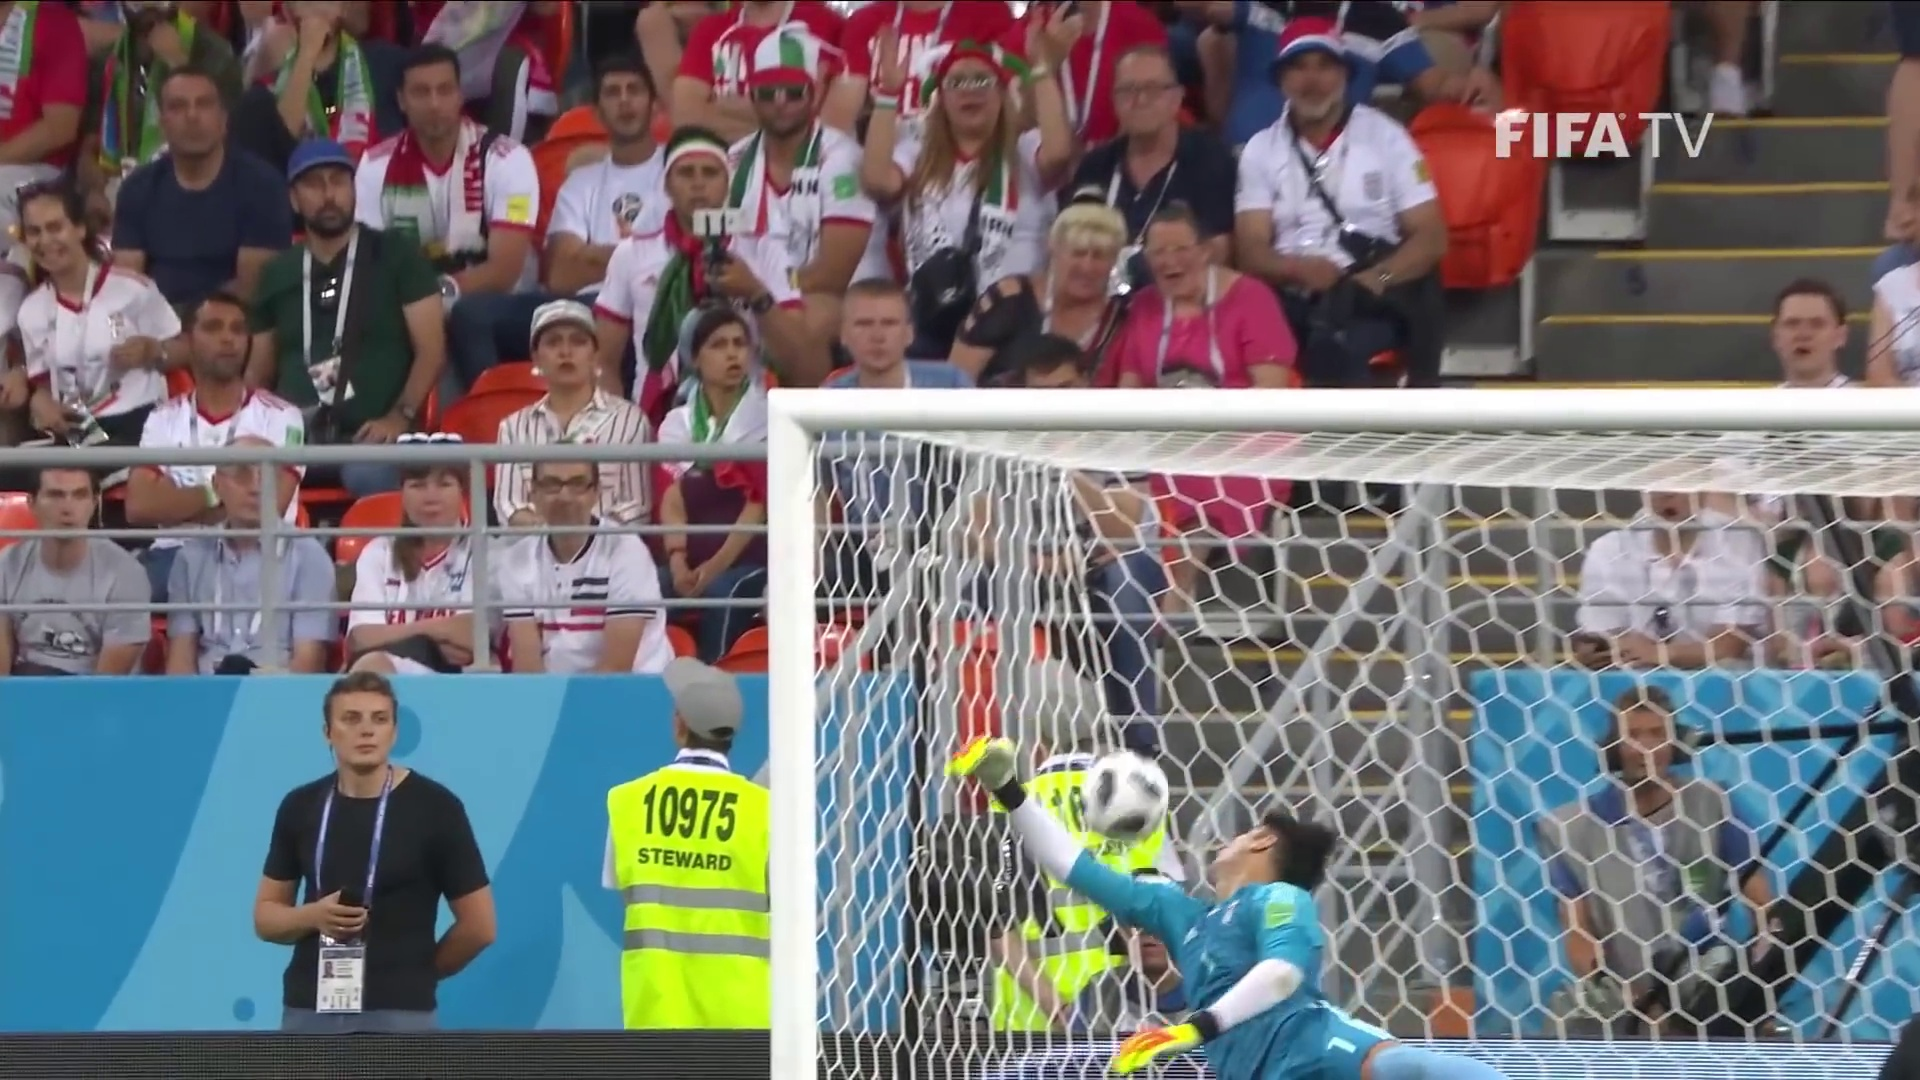ball: (1080, 751, 1165, 838)
person: (955, 732, 1484, 1080)
